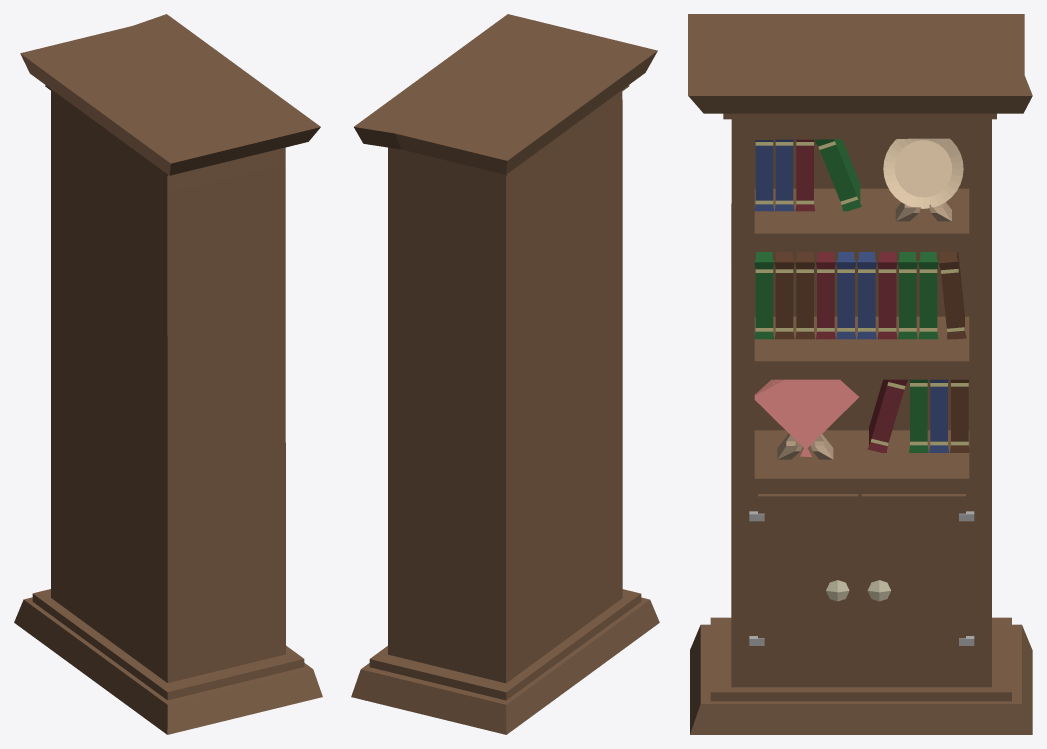
The model's file is ornamentalShelf.fbx.
The picture shows the model from 3 angles, left to right: view 1: azimuth 30°, elevation 25°; view 2: azimuth 150°, elevation 25°; view 3: azimuth 270°, elevation 25°; orthographic projection. The views are drawn at different scales.
Parts seen in each view (by area): view 1: Cube; view 2: Cube; view 3: Cube, Cube.013, Cube.003, Cube.004, Cube.001, Cube.002, Cylinder, Cube.021, Cube.020, Cube.009.
Part boxes in pixels (left/top/right/bottom): Cube: left=14, top=14, right=322, bottom=734; Cube: left=351, top=14, right=659, bottom=734; Cube: left=688, top=14, right=1032, bottom=734; Cube.013: left=754, top=139, right=969, bottom=453; Cube.003: left=861, top=494, right=965, bottom=674; Cube.004: left=758, top=494, right=858, bottom=674; Cube.001: left=754, top=188, right=969, bottom=251; Cube.002: left=754, top=316, right=969, bottom=379; Cylinder: left=883, top=138, right=963, bottom=208; Cube.021: left=754, top=379, right=858, bottom=456; Cube.020: left=777, top=433, right=833, bottom=459; Cube.009: left=895, top=202, right=951, bottom=221.
Size of the model in its own units: 360 by 1231 by 603.
